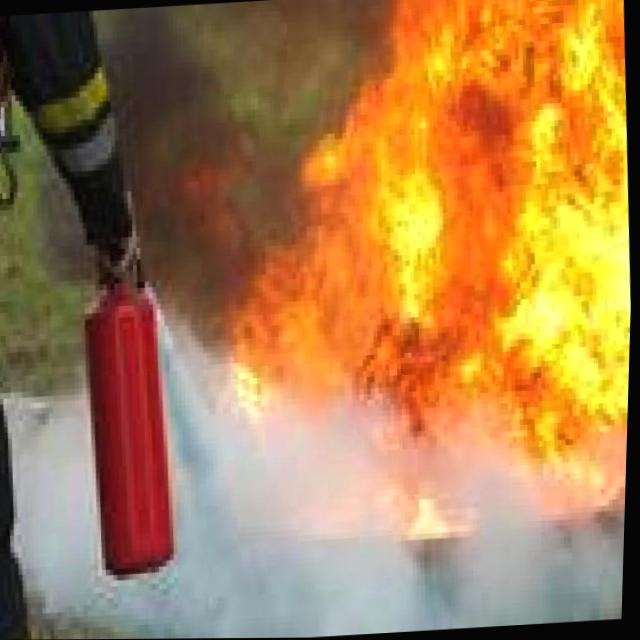FireExtinguisher: (62, 175, 184, 580)
